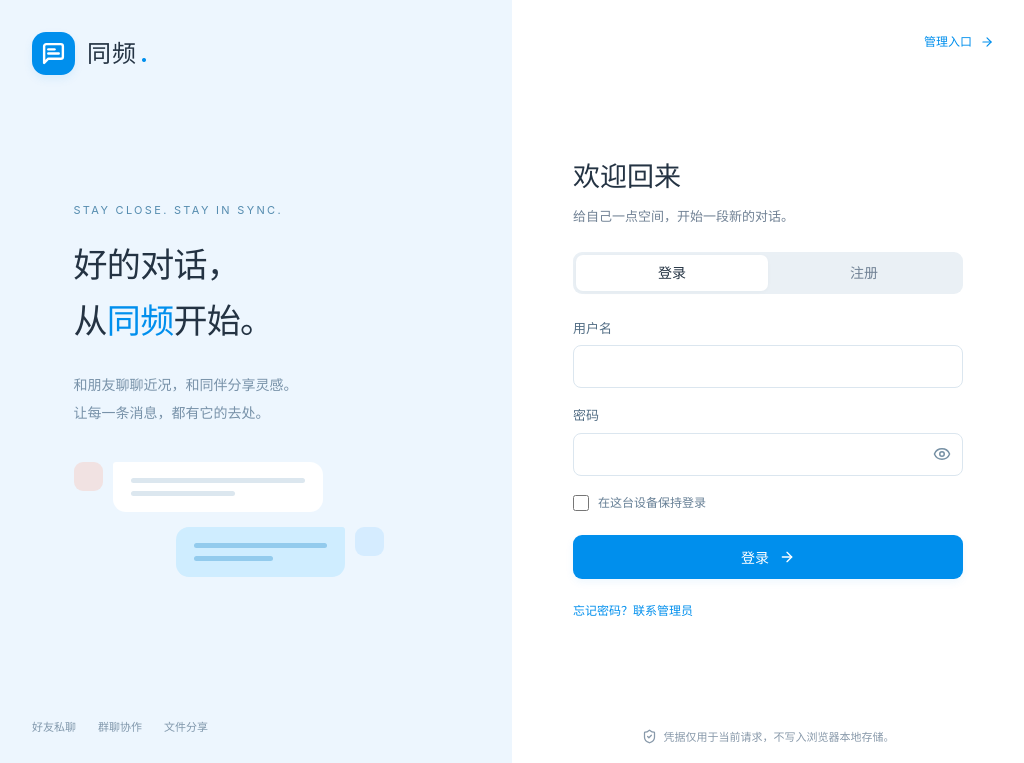
it: M2 authentication UI › ignores a late challenge image after changing username
The width and height of the screenshot is (1024, 763).
Type "test_user" into the field labelled "用户名".
click(768, 367); type("test_user")  # box [573,345,963,388]
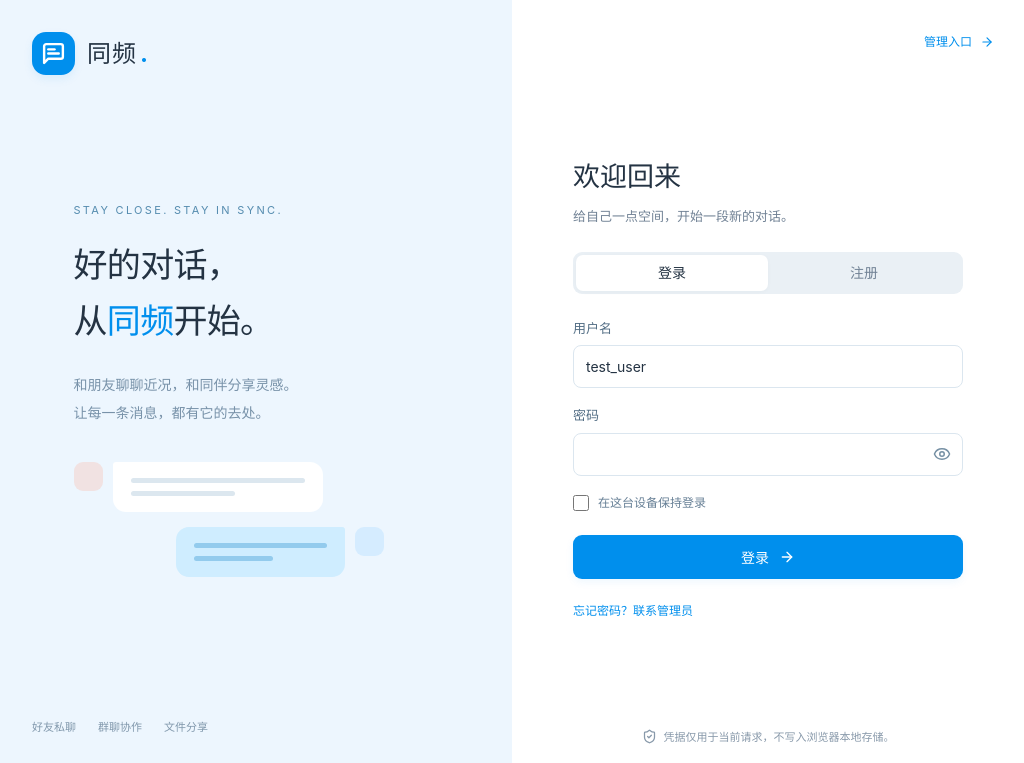
Type "a safe test password" into the password field labelled "密码".
click(768, 454); type("a safe test password")  # box [573,433,963,476]
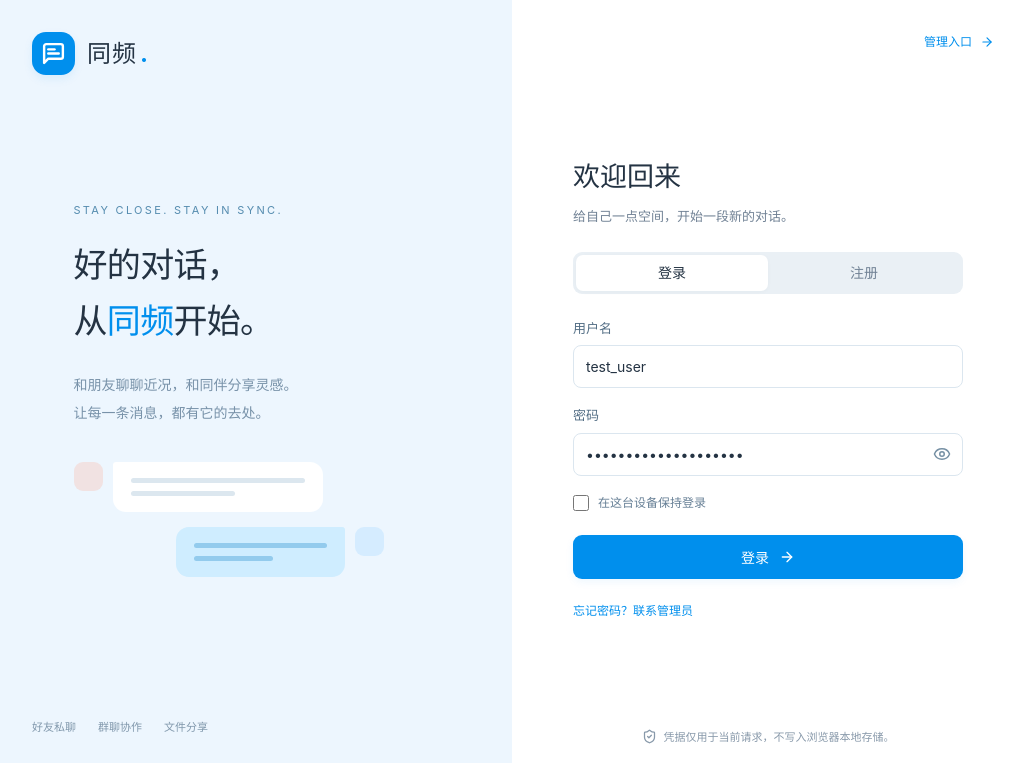
Click the button "登录" below "在这台设备保持登录".
click(768, 558)  # box [573,536,963,580]
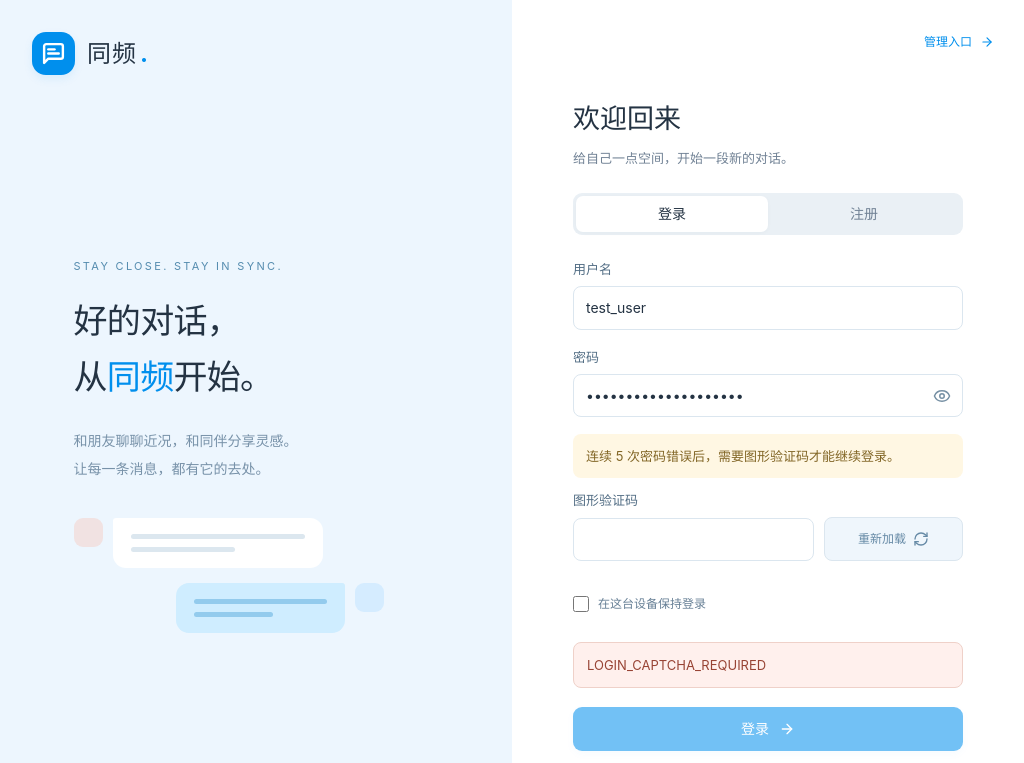
Check: the text "LOGIN_CAPTCHA_REQUIRED" is shown, box [573,642,963,688]
Replace the text in the field labelled "用户名" with "other_user" at (768, 308), box [573,286,963,330]
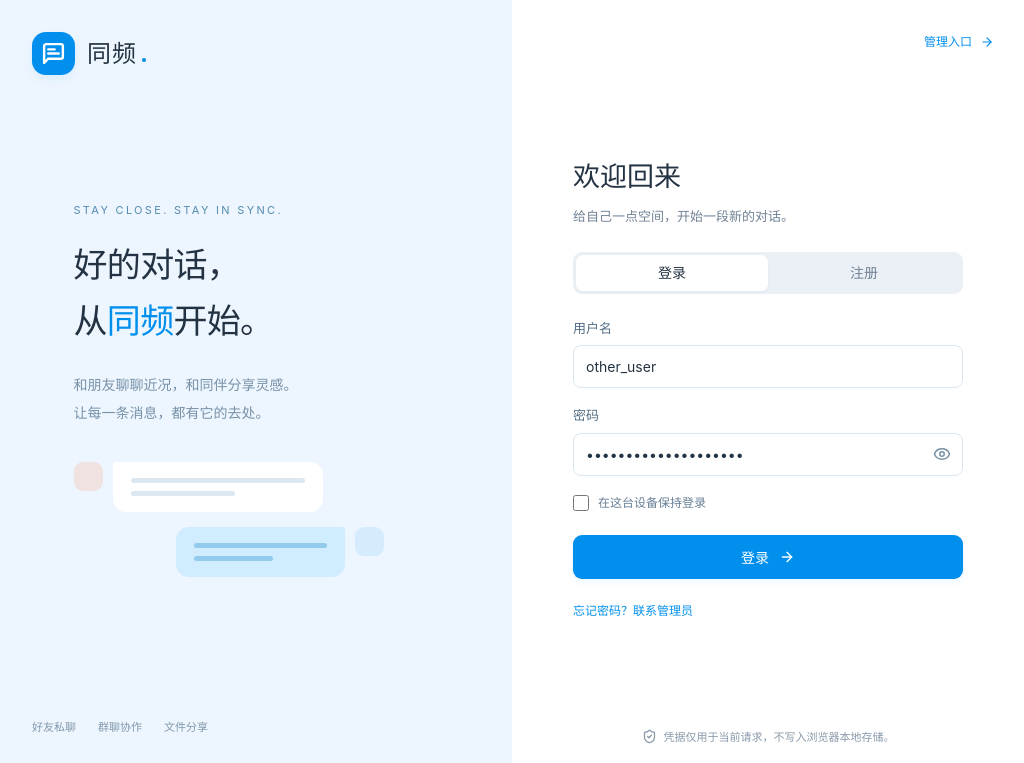
Check: the text labelled "图形验证码" is gone
Check: the button "登录" below "在这台设备保持登录" is enabled, box [573,536,963,580]
